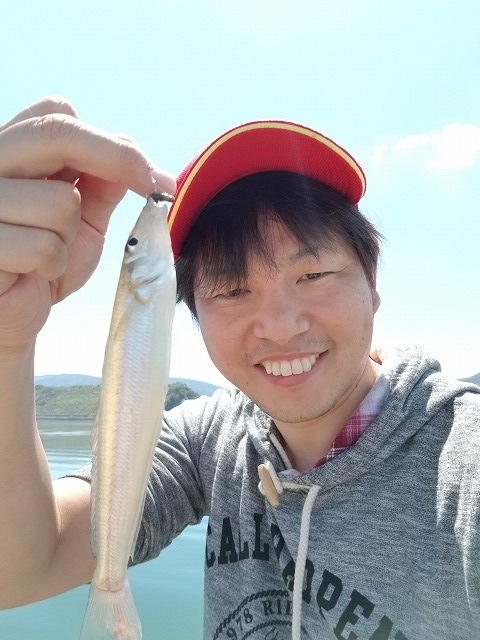kiss: (75, 188, 184, 637)
